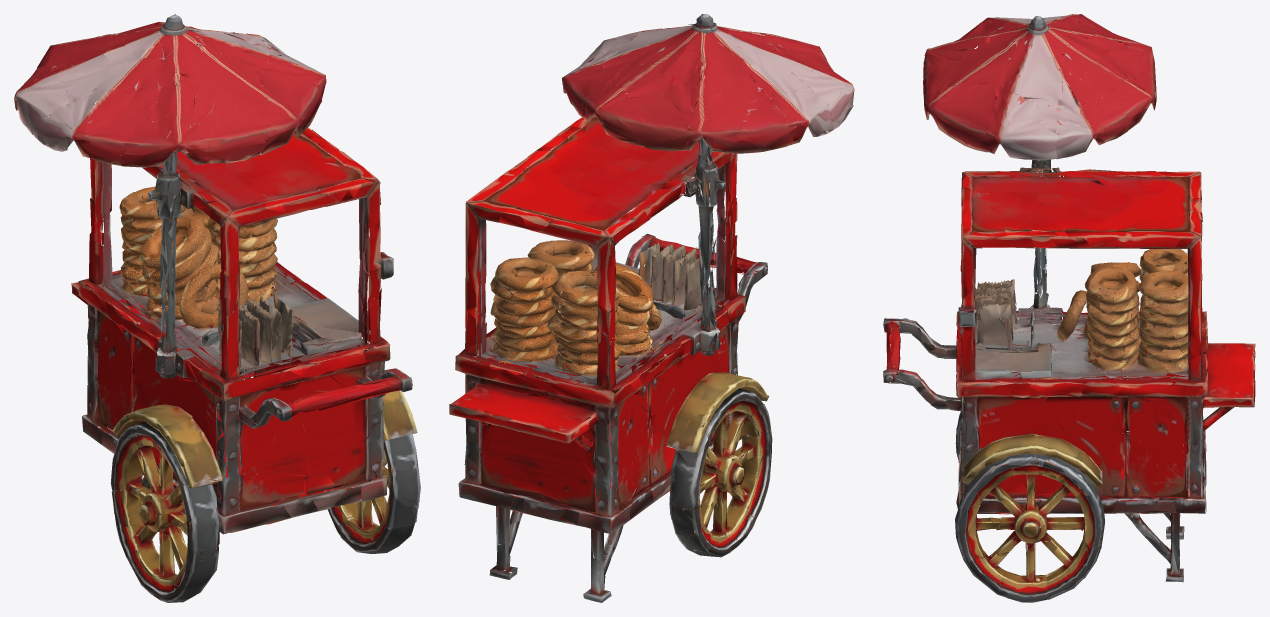
Rendered from SimitCart.fbx.
3 views of the same model, side by side, from view 1: azimuth 30°, elevation 25°; view 2: azimuth 150°, elevation 25°; view 3: azimuth 270°, elevation 25° (orthographic). The views are drawn at different scales.
Parts seen in each view (by area): view 1: SimitCart; view 2: SimitCart; view 3: SimitCart.
Part boxes in pixels (x1,y1,x2,y2): SimitCart: [14, 14, 420, 602]; SimitCart: [449, 14, 854, 602]; SimitCart: [883, 14, 1255, 602].
Bounding box in the file's own units: 1.15 × 1.85 × 1.24.
Materials: 1 (1 with a texture image).
